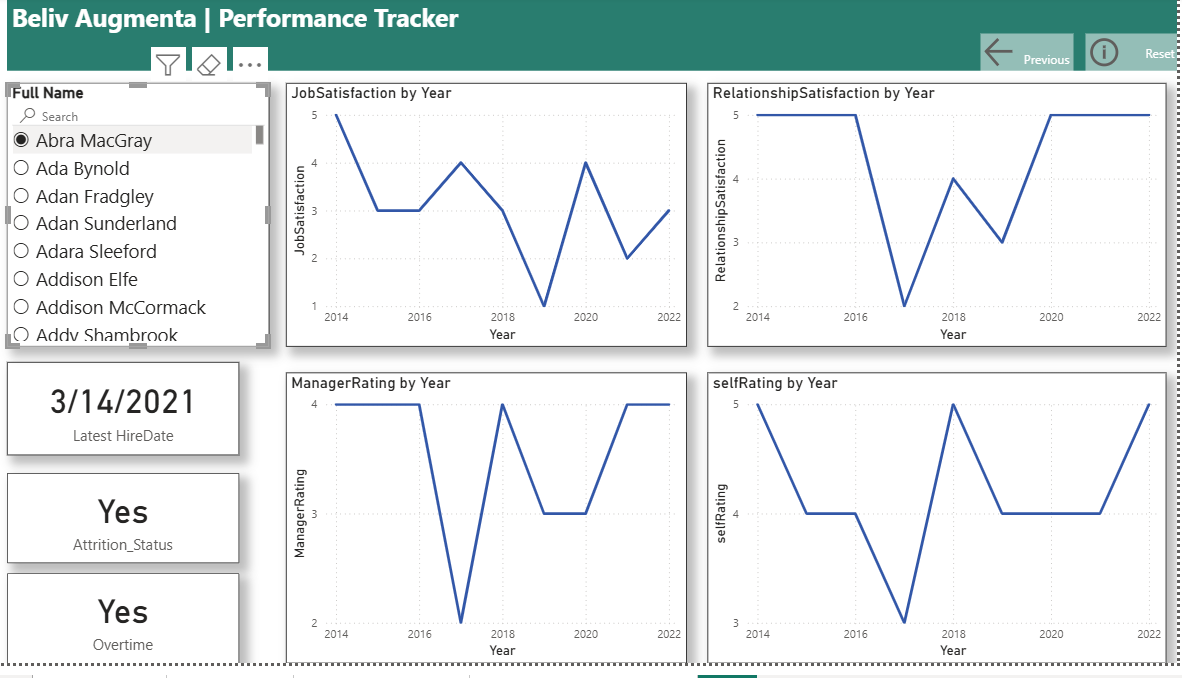

The page's visual inventory and layout, read from the dashboard file:
{"tool":"powerbi","page":{"name":"Performance Tracker","canvas":[1280,720],"ordinal":3},"visuals":[{"type":"listSlicer","title":"Full Name","fields":{"Values":["DimEmployee.Full name"]},"box":[16.2,93.9,283.4,285],"z":0},{"type":"card","fields":{"Values":["Max(DimEmployee.HireDate)"]},"box":[16.2,395.1,251,100.4],"z":1000},{"type":"lineChart","fields":{"Category":["DimDate.Date.Variation.Date Hierarchy.Year"],"Y":["Calmeasures.selfRating"]},"box":[772.4,406.4,495.5,314.1],"z":2000},{"type":"lineChart","fields":{"Y":["Calmeasures.RelationshipSatisfaction"],"Category":["DimDate.Date.Variation.Date Hierarchy.Year"]},"box":[772.4,93.9,495.5,285],"z":3000},{"type":"lineChart","fields":{"Category":["DimDate.Date.Variation.Date Hierarchy.Year"],"Y":["Calmeasures.ManagerRating"]},"box":[317.4,406.4,432.3,314.1],"z":4000},{"type":"card","fields":{"Values":["Calmeasures.Attrition"]},"box":[16.2,514.9,251,97.2],"z":5000},{"type":"lineChart","fields":{"Category":["DimDate.Date.Variation.Date Hierarchy.Year"],"Y":["Calmeasures.JobSatisfaction"]},"box":[317.4,93.9,432.3,285],"z":6000},{"type":"card","fields":{"Values":["Calmeasures.Overtime"]},"box":[16.2,623.4,251,97.2],"z":7000},{"type":"textbox","box":[16.2,0,1264.6,81],"z":8000},{"type":"actionButton","box":[1067.1,40.5,100.4,40.5],"z":9000},{"type":"actionButton","box":[1180.4,40.5,100.4,40.5],"z":10000}]}

Visuals, with their boxes on the page's 1280x720 design canvas (x1, y1, x2, y2). These are canvas units, not pixel positions in the 1182x678 screenshot, which may show the page scaled, cropped or inside an application window:
"Full Name" listSlicer: [left=16, top=94, right=300, bottom=379]
card - Max(DimEmployee.HireDate): [left=16, top=395, right=267, bottom=496]
lineChart - DimDate.Date.Variation.Date Hierarchy.Year x Calmeasures.selfRating: [left=772, top=406, right=1268, bottom=720]
lineChart - Calmeasures.RelationshipSatisfaction x DimDate.Date.Variation.Date Hierarchy.Year: [left=772, top=94, right=1268, bottom=379]
lineChart - DimDate.Date.Variation.Date Hierarchy.Year x Calmeasures.ManagerRating: [left=317, top=406, right=750, bottom=720]
card - Calmeasures.Attrition: [left=16, top=515, right=267, bottom=612]
lineChart - DimDate.Date.Variation.Date Hierarchy.Year x Calmeasures.JobSatisfaction: [left=317, top=94, right=750, bottom=379]
card - Calmeasures.Overtime: [left=16, top=623, right=267, bottom=721]
textbox: [left=16, top=0, right=1281, bottom=81]
actionButton: [left=1067, top=40, right=1168, bottom=81]
actionButton: [left=1180, top=40, right=1281, bottom=81]
